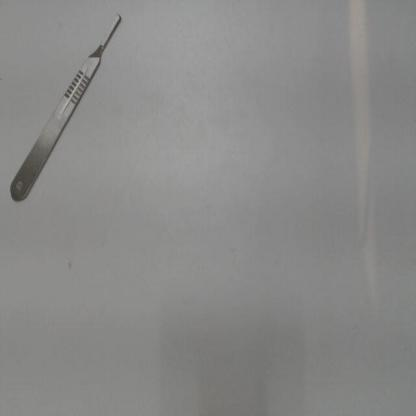No.4 BP Handle: (3, 5, 133, 210)
